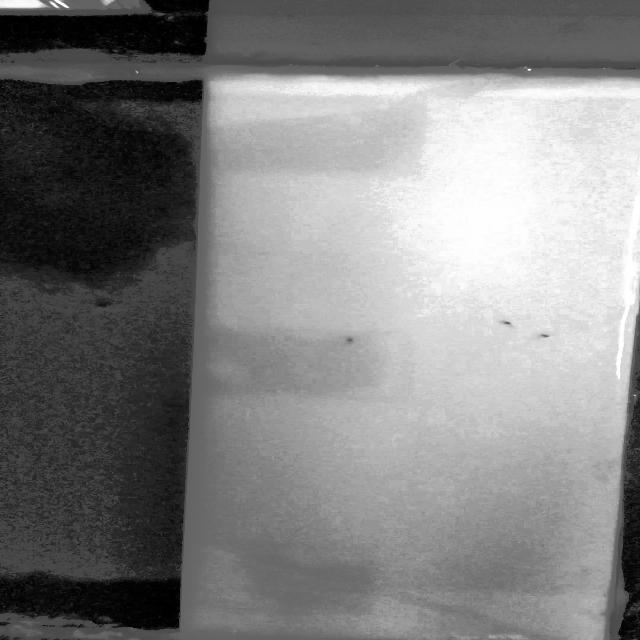shrimp: (335, 328, 367, 348), (531, 330, 562, 342), (499, 320, 518, 328)
